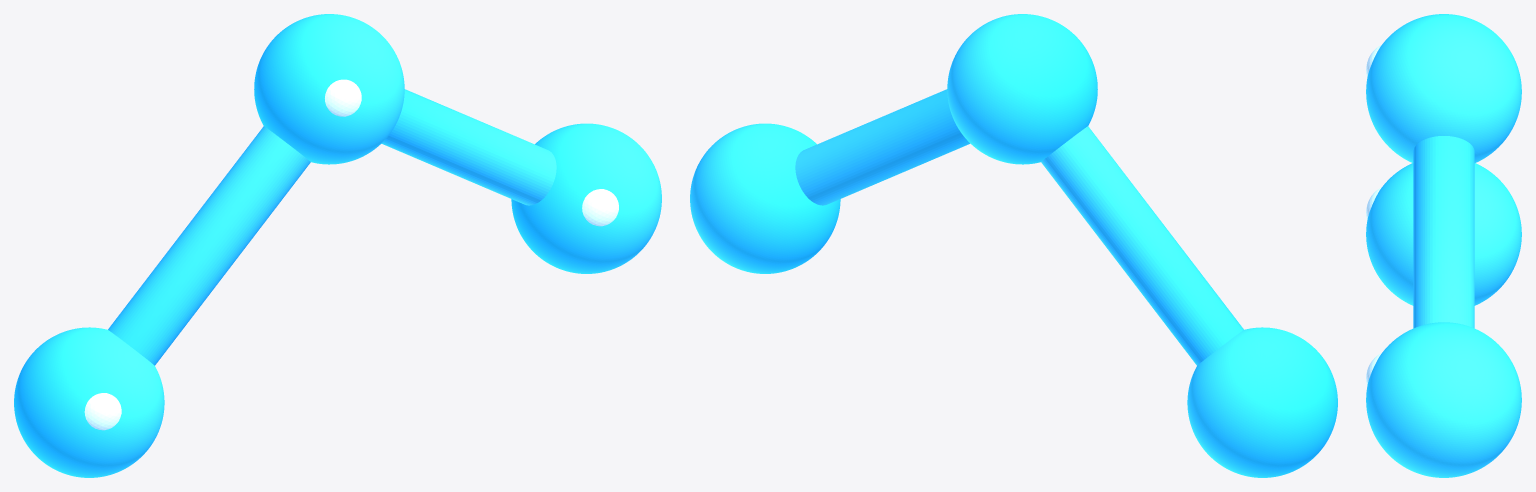
Rendered from roadmaps_premium_animated.glb.
3 renders of one model, left to right at view 1: azimuth 30°, elevation 25°; view 2: azimuth 150°, elevation 25°; view 3: azimuth 270°, elevation 25°, orthographic. The views are drawn at different scales.
Visible parts, largest first — view 1: world; view 2: world; view 3: world.
Part boxes in pixels (box(x1,y1,x2,y2)): world: box(14, 14, 661, 477); world: box(690, 14, 1337, 477); world: box(1366, 14, 1521, 477).
Bounding box in the file's own units: 1.83 × 1.09 × 0.38.
